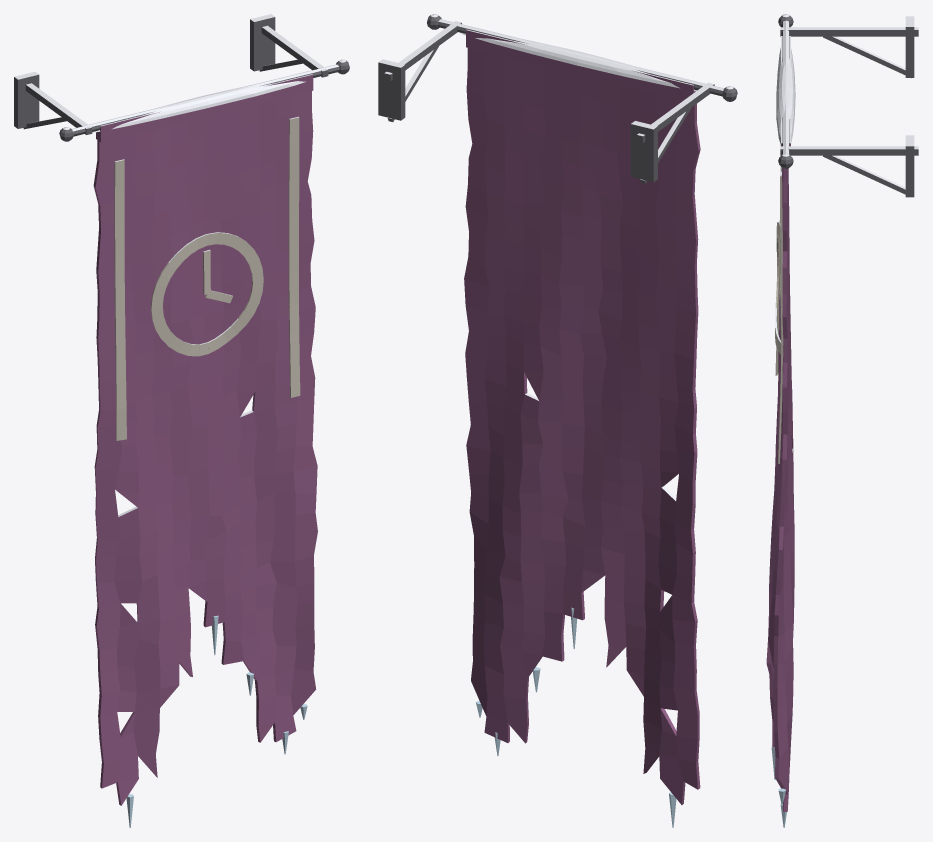
Rendered from PR_Estandarte_A.fbx.
3 renders of one model, left to right at view 1: azimuth 30°, elevation 25°; view 2: azimuth 150°, elevation 25°; view 3: azimuth 270°, elevation 25°, orthographic. The views are drawn at different scales.
Parts seen in each view (by area): view 1: PR_Estandarte_A; view 2: PR_Estandarte_A; view 3: PR_Estandarte_A.
Boxes of the visible parts, <box> form: PR_Estandarte_A: <box>14,14,349,827</box>; PR_Estandarte_A: <box>378,14,737,827</box>; PR_Estandarte_A: <box>766,14,918,827</box>.
Bounding box in the file's own units: 2.45 × 5.78 × 1.08.
